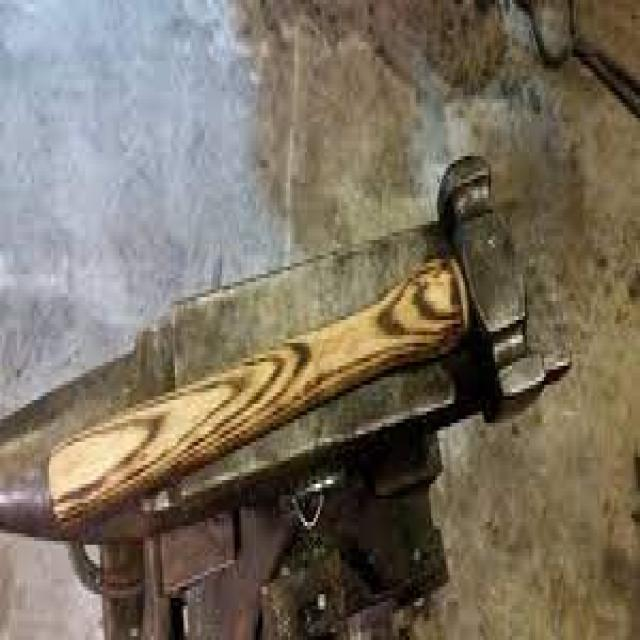hammer: (42, 147, 552, 543)
